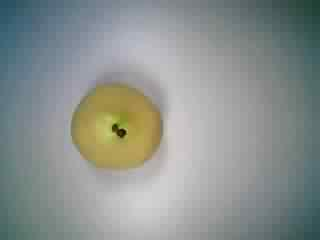pear: (62, 75, 168, 182)
